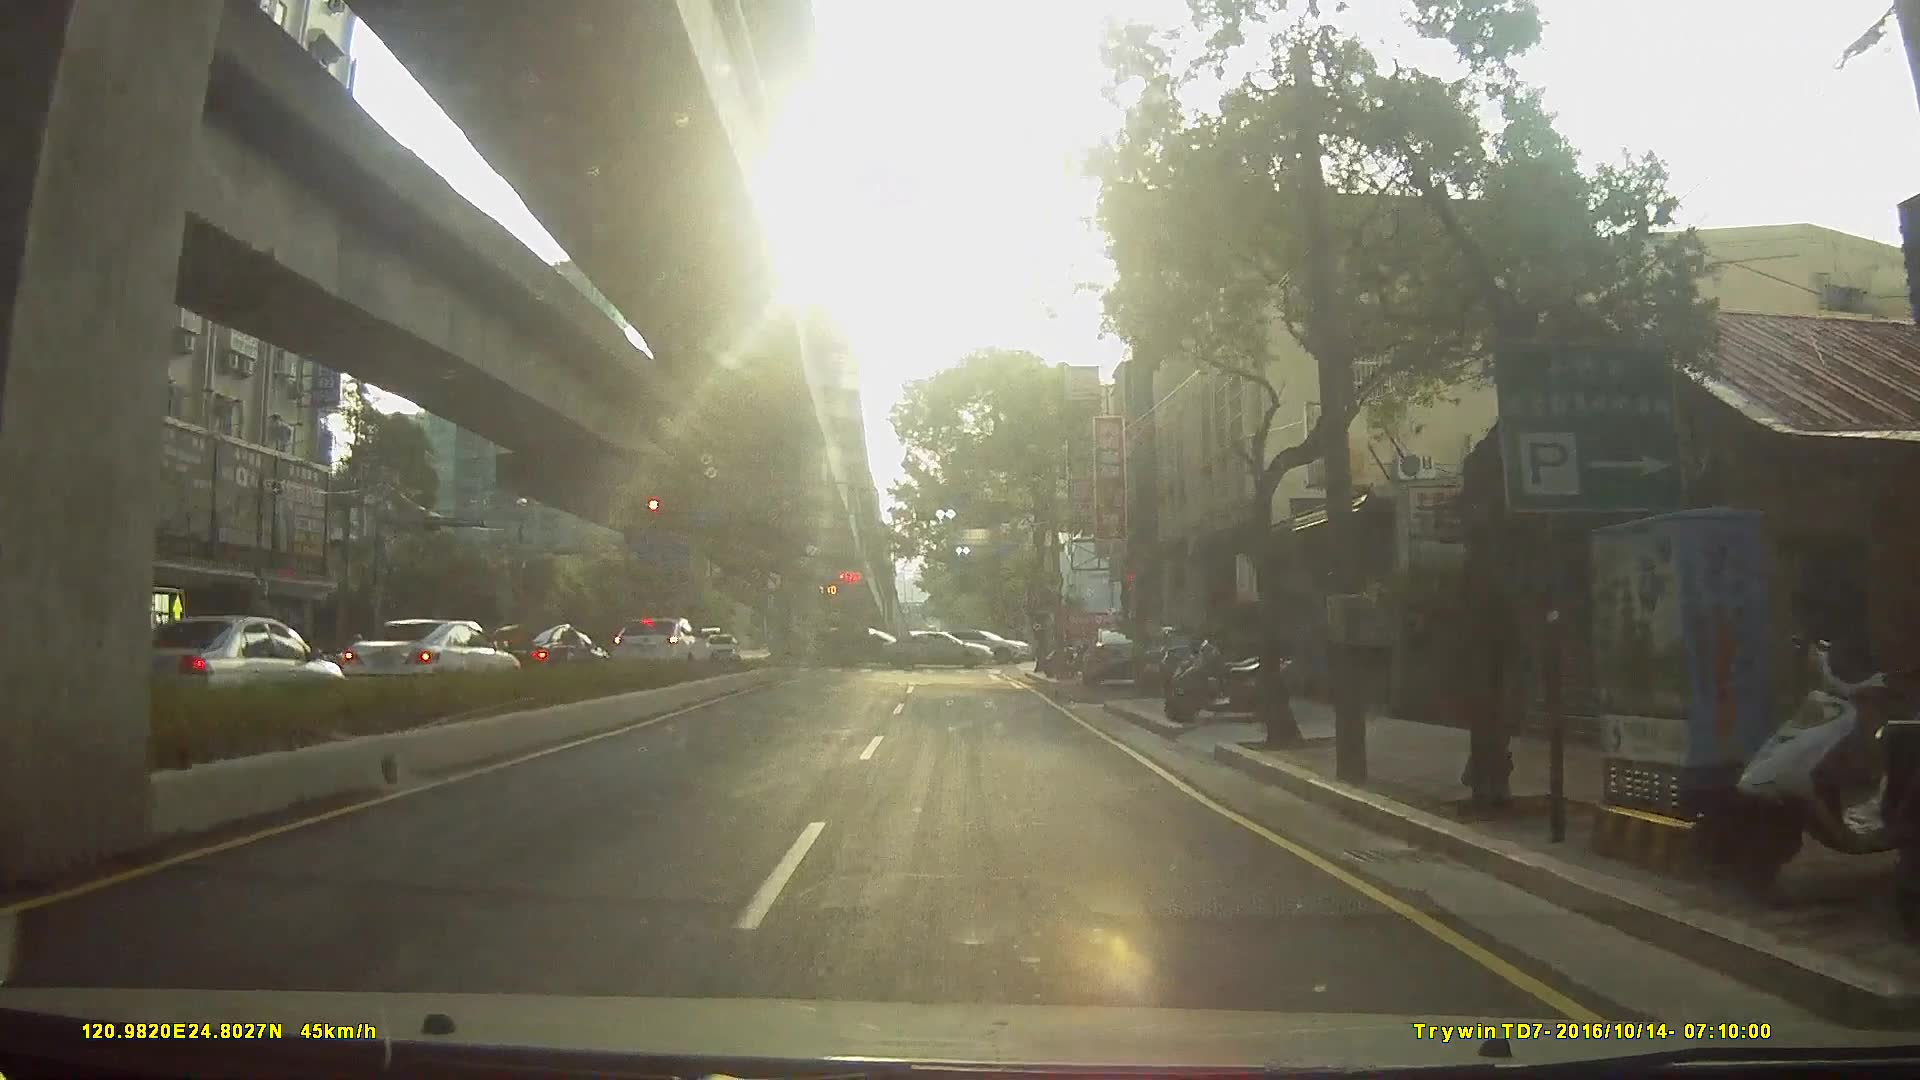vehicle: (82, 615, 340, 720), (334, 615, 524, 700), (469, 620, 607, 684), (605, 615, 716, 673), (1077, 622, 1156, 686), (886, 628, 1000, 669), (829, 625, 916, 667), (949, 626, 1036, 665), (700, 629, 738, 663)
